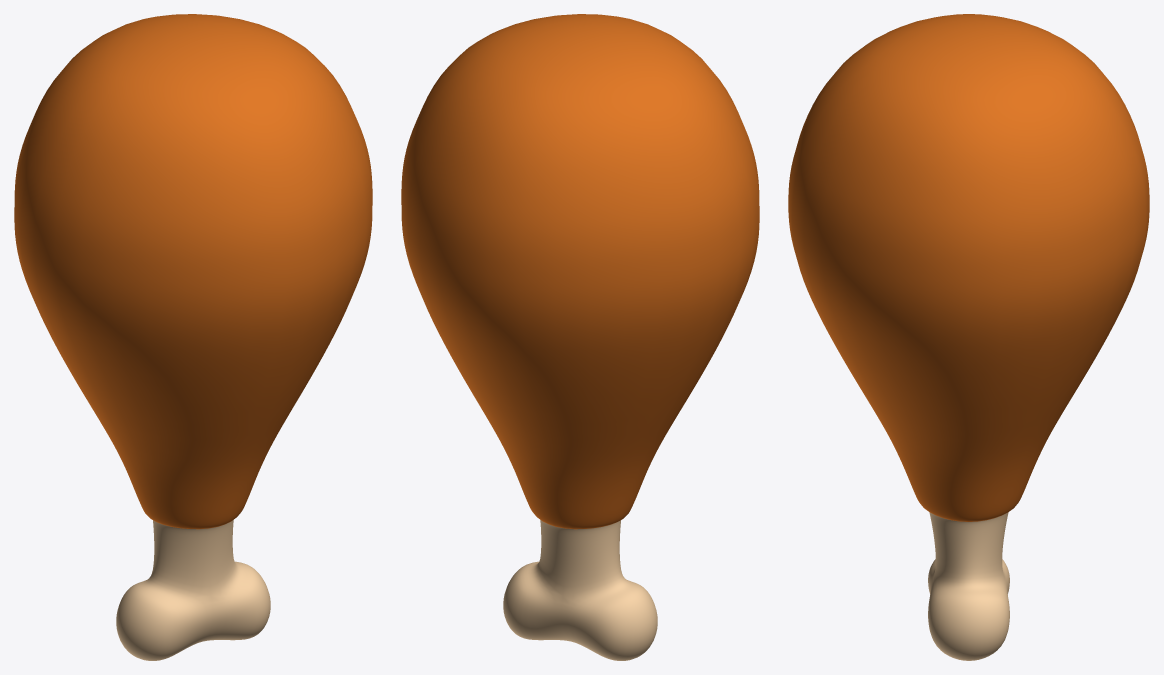
3 views of the same model, side by side, from view 1: azimuth 30°, elevation 25°; view 2: azimuth 150°, elevation 25°; view 3: azimuth 270°, elevation 25° (orthographic).
Visible parts, largest first — view 1: chicken_bone; view 2: chicken_bone; view 3: chicken_bone.
Boxes of the visible parts, x1,y1,x2,y2 form: chicken_bone: (14,14,372,660); chicken_bone: (401,14,759,660); chicken_bone: (788,14,1149,660).
Size of the model in its own units: 1.22 by 2.23 by 1.22.
